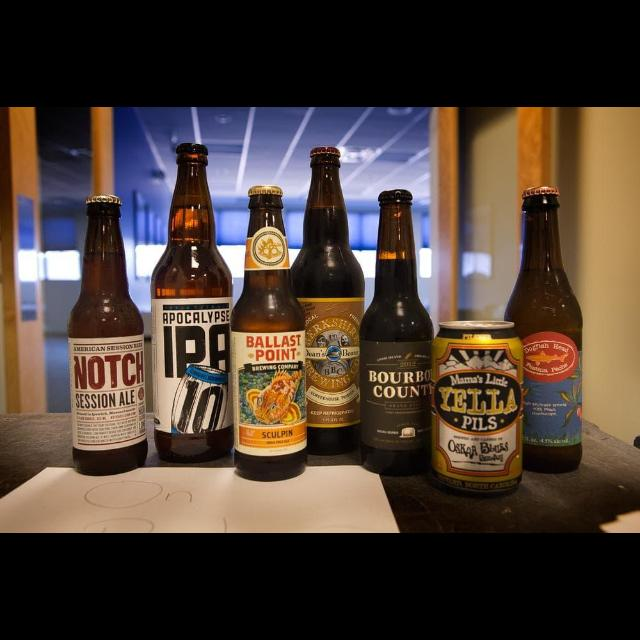garrafa de vidro: (150, 142, 234, 464), (501, 186, 585, 474), (230, 183, 306, 481), (66, 195, 146, 477), (292, 145, 364, 455), (362, 190, 436, 476)
lata: (432, 320, 524, 498)
